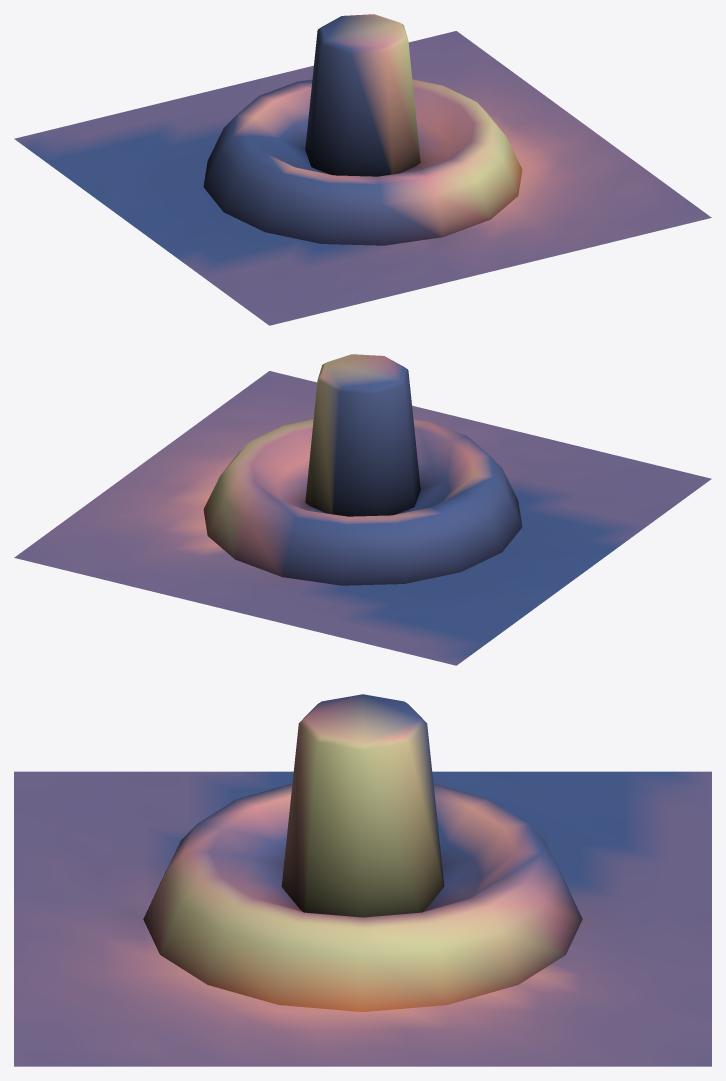
The picture shows the model from 3 angles, top to bottom: view 1: azimuth 30°, elevation 25°; view 2: azimuth 150°, elevation 25°; view 3: azimuth 270°, elevation 25°; orthographic projection. The views are drawn at different scales.
Visible parts, largest first — view 1: Plane.001; view 2: Plane.001; view 3: Plane.001.
Boxes of the visible parts, left/top/right/bottom form: Plane.001: left=14, top=14, right=711, bottom=325; Plane.001: left=14, top=354, right=711, bottom=665; Plane.001: left=14, top=694, right=711, bottom=1066.
Size of the model in its own units: 10.95 by 3.51 by 10.95.
